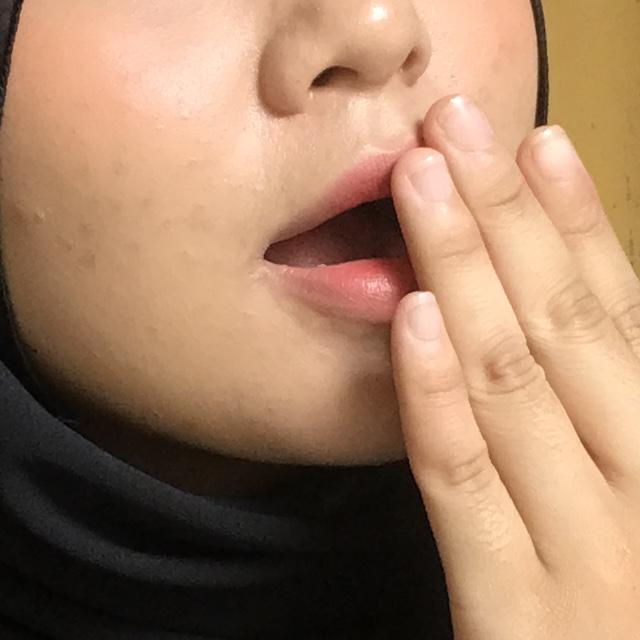ngantuk: (150, 66, 640, 640)
